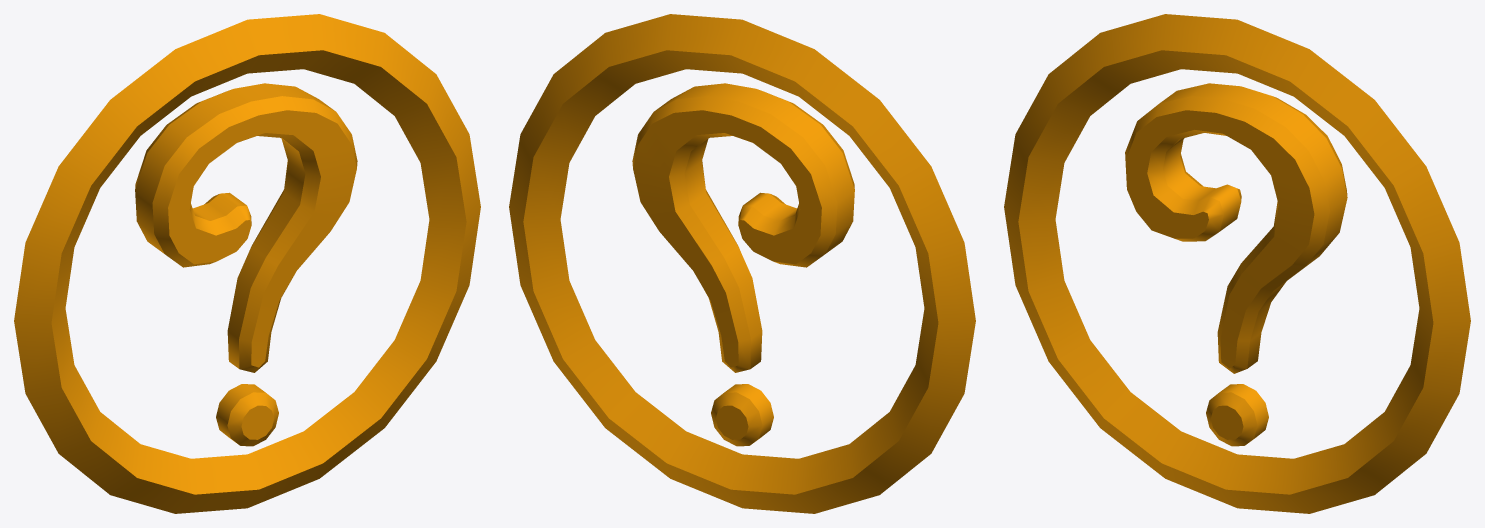
File: Question_TypeB.FBX
3 renders of one model, left to right at view 1: azimuth 30°, elevation 25°; view 2: azimuth 150°, elevation 25°; view 3: azimuth 330°, elevation 25°, orthographic.
Parts seen in each view (by area): view 1: Question_TypeB; view 2: Question_TypeB; view 3: Question_TypeB.
Part boxes in pixels (x1,y1,x2,y2): Question_TypeB: (14,14,480,513); Question_TypeB: (509,14,975,513); Question_TypeB: (1004,14,1470,513).
Size of the model in its own units: 31.11 by 31.11 by 3.75.
